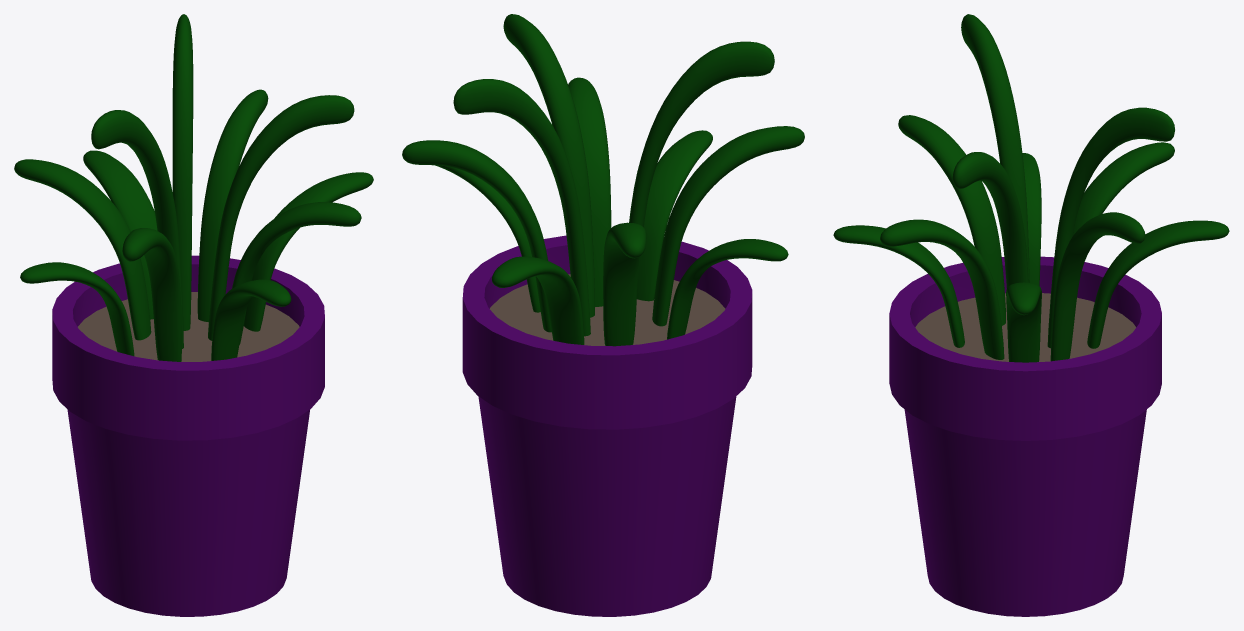
The model's file is Plante1_6.fbx.
3 views of the same model, side by side, from view 1: azimuth 30°, elevation 25°; view 2: azimuth 150°, elevation 25°; view 3: azimuth 270°, elevation 25° (orthographic). The views are drawn at different scales.
Visible parts, largest first — view 1: pCylinder732, pCube1946, pCube1949, pCube1943, pCube1948, pCylinder733, pCube1950, pCube1941, pCube1942, pCube1947, pCube1944, pCube1945 (+1 smaller); view 2: pCylinder732, pCube1949, pCube1950, pCube1946, pCube1941, pCylinder733, pCube1943, pCube1945, pCube1947, pCube1948, pCube1942, pCube1940 (+1 smaller); view 3: pCylinder732, pCylinder733, pCube1949, pCube1950, pCube1941, pCube1947, pCube1943, pCube1946, pCube1942, pCube1948, pCube1945, pCube1944 (+1 smaller).
Part boxes in pixels (<box>): pCylinder732: <box>52,255,324,616</box>; pCube1946: <box>208,95,354,340</box>; pCube1949: <box>172,14,193,330</box>; pCube1943: <box>197,89,268,322</box>; pCube1948: <box>14,159,151,340</box>; pCylinder733: <box>78,292,299,361</box>; pCube1950: <box>91,110,183,348</box>; pCube1941: <box>122,228,181,361</box>; pCube1942: <box>83,150,157,319</box>; pCube1947: <box>232,202,361,344</box>; pCube1944: <box>243,172,373,331</box>; pCube1945: <box>211,279,291,360</box>; pCylinder732: <box>462,235,752,616</box>; pCube1949: <box>453,79,590,336</box>; pCube1950: <box>629,41,774,287</box>; pCube1946: <box>503,14,594,317</box>; pCube1941: <box>652,126,804,326</box>; pCylinder733: <box>490,274,725,345</box>; pCube1943: <box>402,140,551,332</box>; pCube1945: <box>636,130,712,301</box>; pCube1947: <box>568,77,611,306</box>; pCube1948: <box>603,222,646,346</box>; pCube1942: <box>492,256,584,344</box>; pCube1940: <box>667,239,788,339</box>; pCylinder732: <box>889,256,1161,616</box>; pCylinder733: <box>915,293,1135,361</box>; pCube1949: <box>1047,107,1174,348</box>; pCube1950: <box>961,14,1029,282</box>; pCube1941: <box>898,115,1005,325</box>; pCube1947: <box>880,219,1004,359</box>; pCube1943: <box>1050,212,1145,361</box>; pCube1946: <box>952,152,1028,287</box>; pCube1942: <box>1087,220,1229,348</box>; pCube1948: <box>1073,142,1174,235</box>; pCube1945: <box>833,225,964,347</box>; pCube1944: <box>1006,282,1041,362</box>.
Size of the model in its own units: 16.65 by 22.94 by 16.27.
